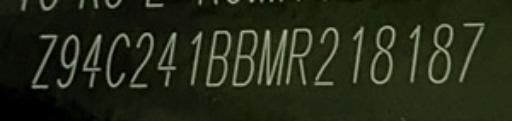letter: (256, 27, 290, 88), (457, 20, 487, 85), (368, 22, 398, 85), (284, 27, 314, 88), (29, 30, 59, 89), (426, 21, 454, 84), (230, 26, 258, 89), (204, 28, 232, 91), (312, 25, 340, 86), (126, 30, 154, 91), (54, 34, 82, 91), (154, 30, 180, 87), (104, 32, 130, 89), (80, 32, 104, 89), (184, 29, 204, 86), (404, 21, 422, 84), (346, 23, 364, 84)
